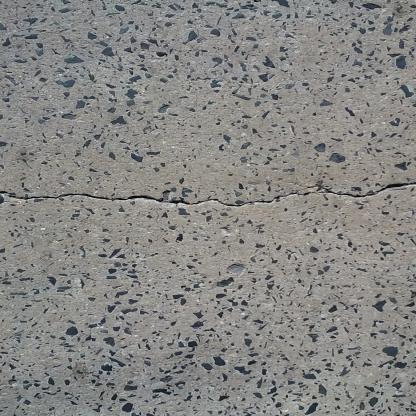Cracks: (0, 167, 416, 209)
